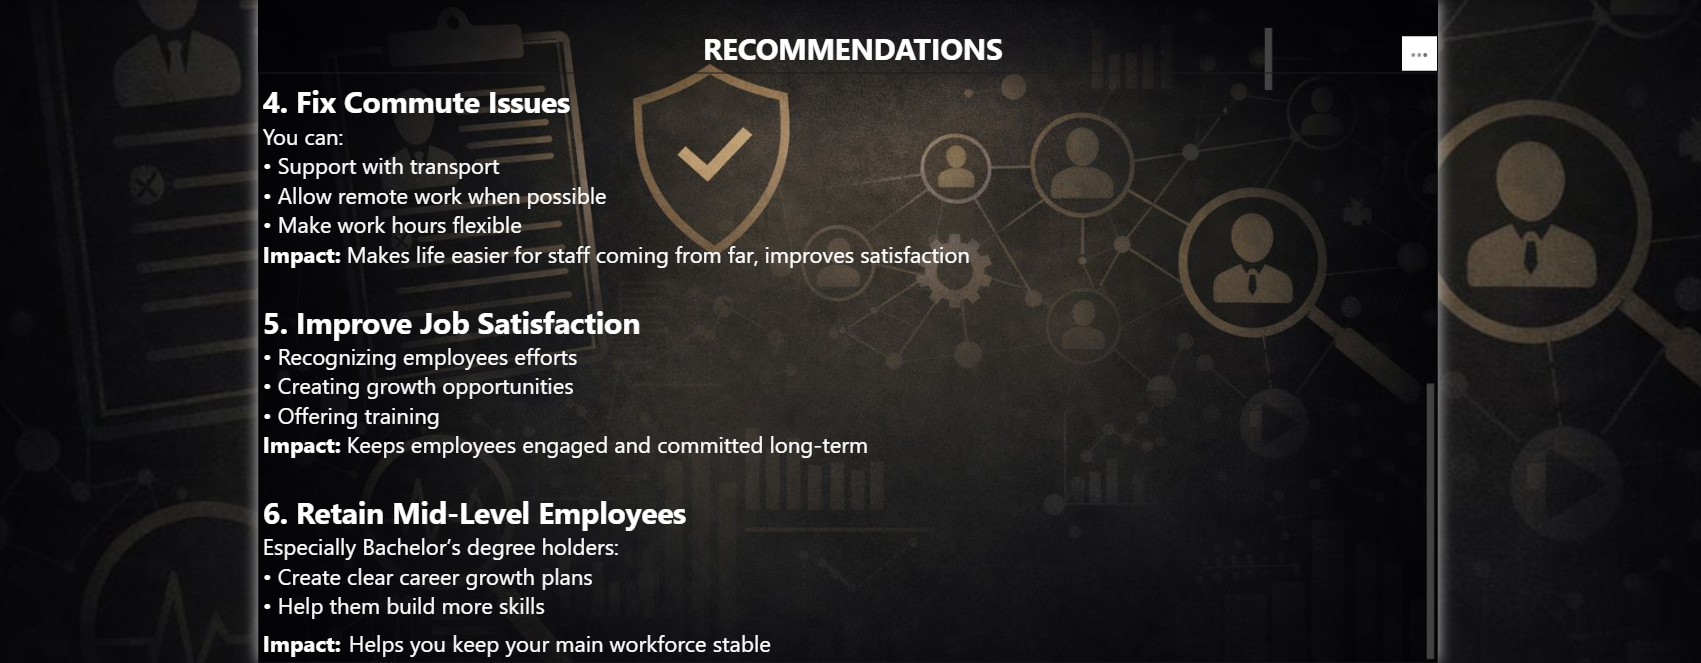

Layout of this report page (visuals, bound fields, positions):
{"tool":"powerbi","page":{"name":"Page 3","canvas":[1280,720],"ordinal":2},"visuals":[{"type":"textbox","box":[201.7,26,902.7,83],"z":0},{"type":"textbox","box":[0,79.7,1280.1,640.9],"z":1000}]}

Visuals, with their boxes on the page's 1280x720 design canvas (x1, y1, x2, y2). These are canvas units, not pixel positions in the 1701x663 screenshot, which may show the page scaled, cropped or inside an application window:
textbox: select_region(202, 26, 1104, 109)
textbox: select_region(0, 80, 1280, 721)
